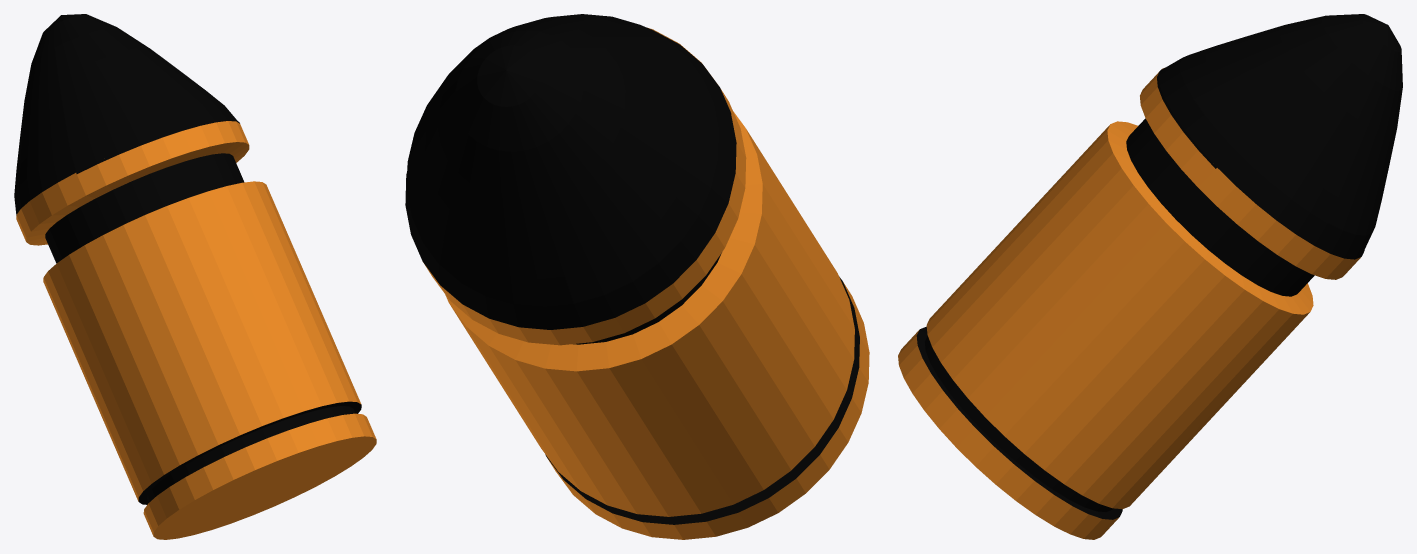
Rendered from Bullet_power_up.fbx.
3 views of the same model, side by side, from view 1: azimuth 30°, elevation 25°; view 2: azimuth 150°, elevation 25°; view 3: azimuth 270°, elevation 25° (orthographic). The views are drawn at different scales.
Visible parts, largest first — view 1: Cylinder; view 2: Cylinder; view 3: Cylinder.
Part boxes in pixels (box(x1,y1,x2,y2)): Cylinder: box(14, 14, 376, 539); Cylinder: box(405, 14, 869, 539); Cylinder: box(898, 14, 1402, 539).
Bounding box in the file's own units: 219 × 395 × 368.
